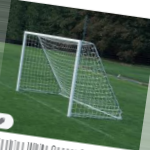goals: (15, 29, 123, 123)
